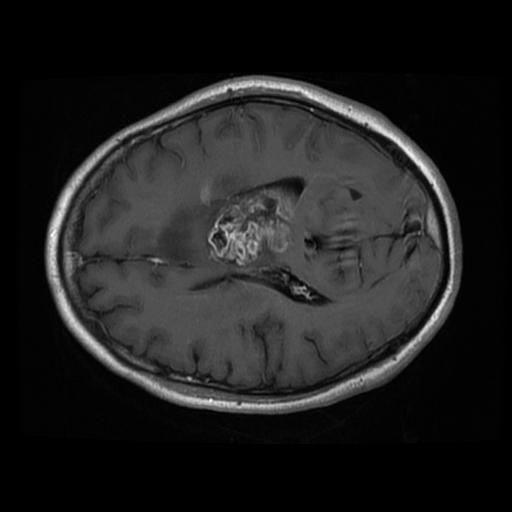glioma: (158, 173, 298, 273)
